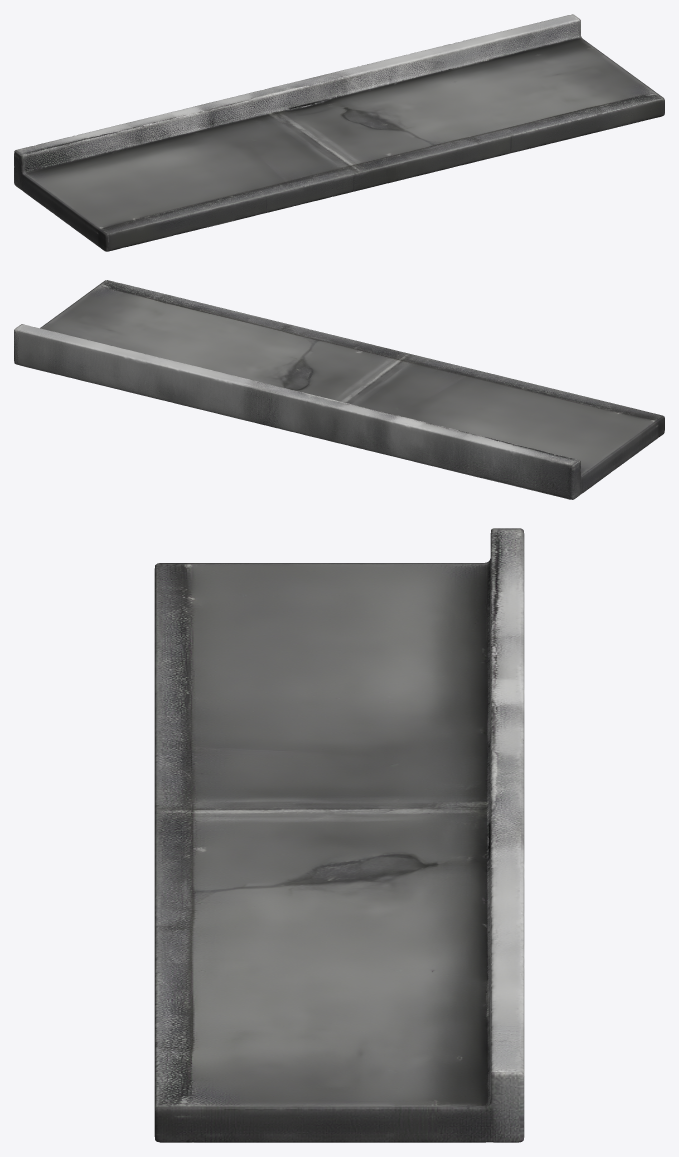
File: crack_1.glb
The picture shows the model from 3 angles, top to bottom: view 1: azimuth 30°, elevation 25°; view 2: azimuth 150°, elevation 25°; view 3: azimuth 270°, elevation 25°; orthographic projection. The views are drawn at different scales.
Parts seen in each view (by area): view 1: Mesh1.0; view 2: Mesh1.0; view 3: Mesh1.0.
Boxes of the visible parts, box(x1,y1,x2,y2) form: Mesh1.0: box(14, 14, 664, 251); Mesh1.0: box(14, 280, 664, 499); Mesh1.0: box(154, 528, 524, 1142).
Size of the model in its own units: 1.91 by 0.1151 by 0.5469.
1 material, 1 textured.
